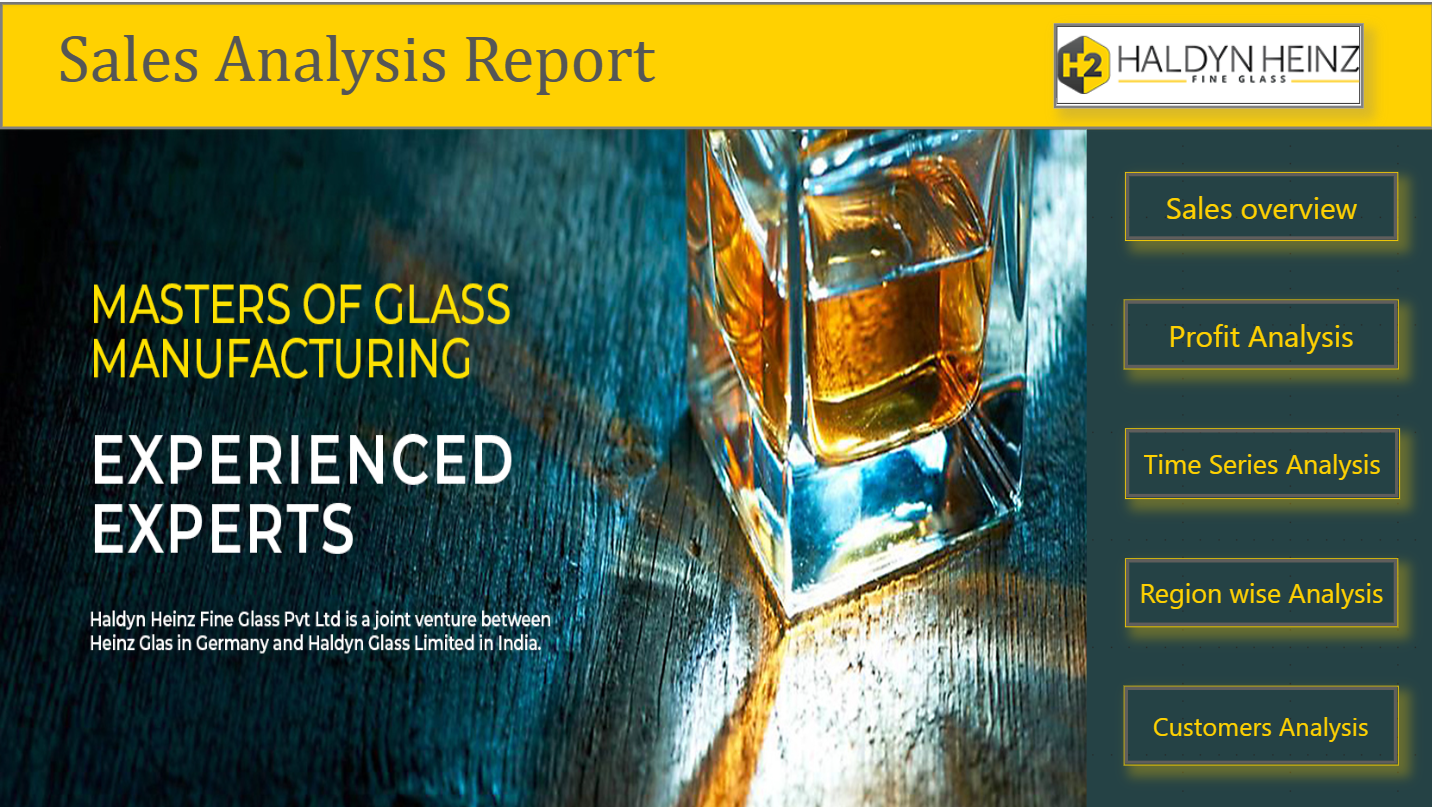

Layout of this report page (visuals, bound fields, positions):
{"tool":"powerbi","page":{"name":"Welcome Page","canvas":[1280,720],"ordinal":0},"visuals":[{"type":"textbox","box":[0,0,1280.4,113.8],"z":0},{"type":"image","box":[941,19,276.8,75.9],"z":1000},{"type":"image","box":[0,113.5,970.7,606.7],"z":2000},{"type":"actionButton","box":[1005,151.7,244.1,61.6],"z":3000},{"type":"actionButton","box":[1003.5,265.9,245.6,62.5],"z":4000},{"type":"actionButton","box":[1005,380.9,245.3,62.8],"z":5000},{"type":"actionButton","box":[1005,496.2,244.1,61.6],"z":6000},{"type":"actionButton","box":[1003.9,610.4,245.3,71.1],"z":7000}]}

Visuals, with their boxes in screenshot pixels (x1, y1, x2, y2), scaled from the page's 1280x720 canvas onto the 1432x807 screenshot:
textbox: {"left": 0, "top": 0, "right": 1431, "bottom": 128}
image: {"left": 1053, "top": 21, "right": 1362, "bottom": 106}
image: {"left": 0, "top": 127, "right": 1086, "bottom": 806}
actionButton: {"left": 1124, "top": 170, "right": 1397, "bottom": 239}
actionButton: {"left": 1123, "top": 298, "right": 1397, "bottom": 368}
actionButton: {"left": 1124, "top": 427, "right": 1399, "bottom": 497}
actionButton: {"left": 1124, "top": 556, "right": 1397, "bottom": 625}
actionButton: {"left": 1123, "top": 684, "right": 1398, "bottom": 764}
